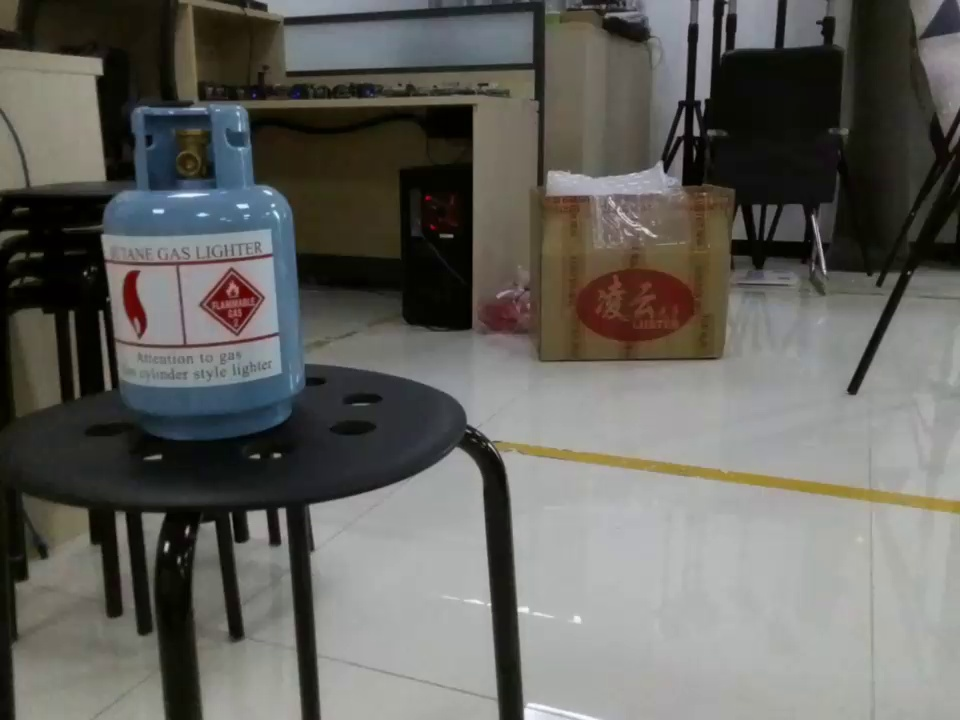gas tank: (100, 96, 311, 435)
